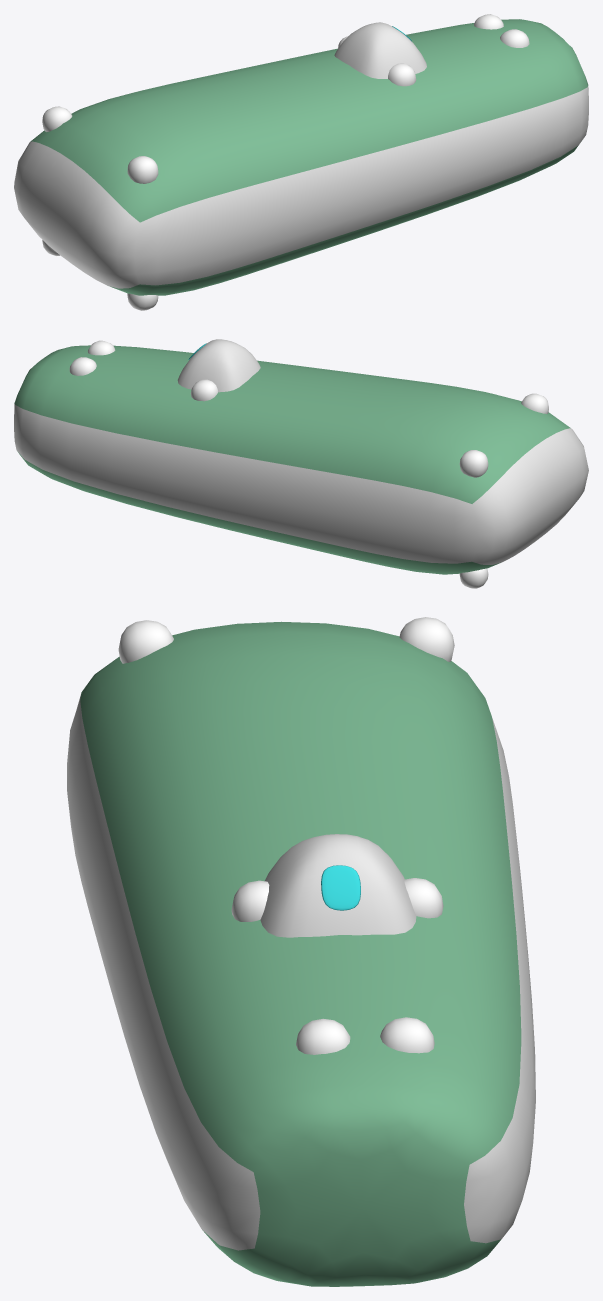
Rendered from Arm.fbx.
The picture shows the model from 3 angles, top to bottom: view 1: azimuth 30°, elevation 25°; view 2: azimuth 150°, elevation 25°; view 3: azimuth 270°, elevation 25°; orthographic projection. The views are drawn at different scales.
Visible parts, largest first — view 1: Arm; view 2: Arm; view 3: Arm.
Boxes of the visible parts, <box> form: Arm: <box>14,14,588,310</box>; Arm: <box>14,339,588,588</box>; Arm: <box>67,617,535,1286</box>.
Bounding box in the file's own units: 237 × 75.56 × 96.6.
